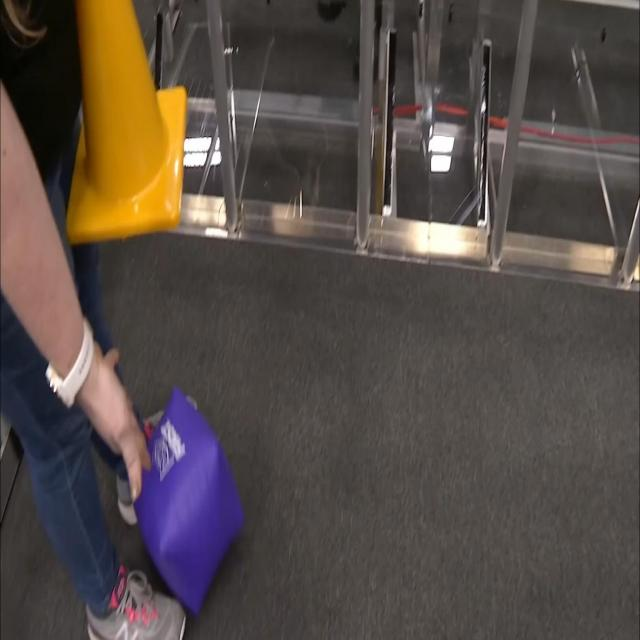frc_cone: (54, 0, 186, 244)
frc_cube: (132, 388, 246, 618)
